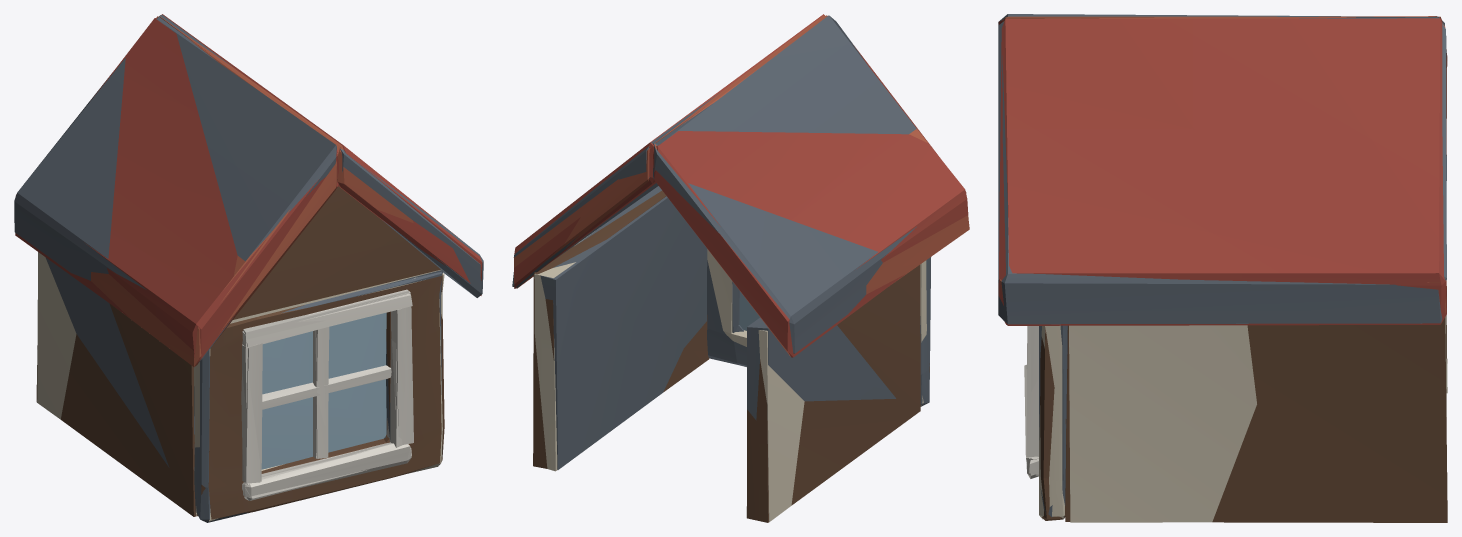
Rendered from dormer.glb.
The picture shows the model from 3 angles, left to right: view 1: azimuth 30°, elevation 25°; view 2: azimuth 150°, elevation 25°; view 3: azimuth 270°, elevation 25°; orthographic projection. The views are drawn at different scales.
Parts seen in each view (by area): view 1: dormer.v0.mesh, dormer.v2.mesh, dormer.v1.mesh; view 2: dormer.v1.mesh, dormer.v0.mesh, dormer.v2.mesh; view 3: dormer.v0.mesh, dormer.v2.mesh, dormer.v1.mesh.
Boxes of the visible parts, x1,y1,x2,y2 form: dormer.v0.mesh: [15, 14, 482, 521]; dormer.v2.mesh: [36, 16, 444, 519]; dormer.v1.mesh: [14, 14, 483, 522]; dormer.v1.mesh: [512, 15, 930, 469]; dormer.v0.mesh: [513, 14, 968, 522]; dormer.v2.mesh: [514, 15, 969, 522]; dormer.v0.mesh: [998, 16, 1447, 522]; dormer.v2.mesh: [1000, 16, 1447, 522]; dormer.v1.mesh: [998, 14, 1446, 517].
Size of the model in its own units: 0.8495 by 1.01 by 0.9412.
